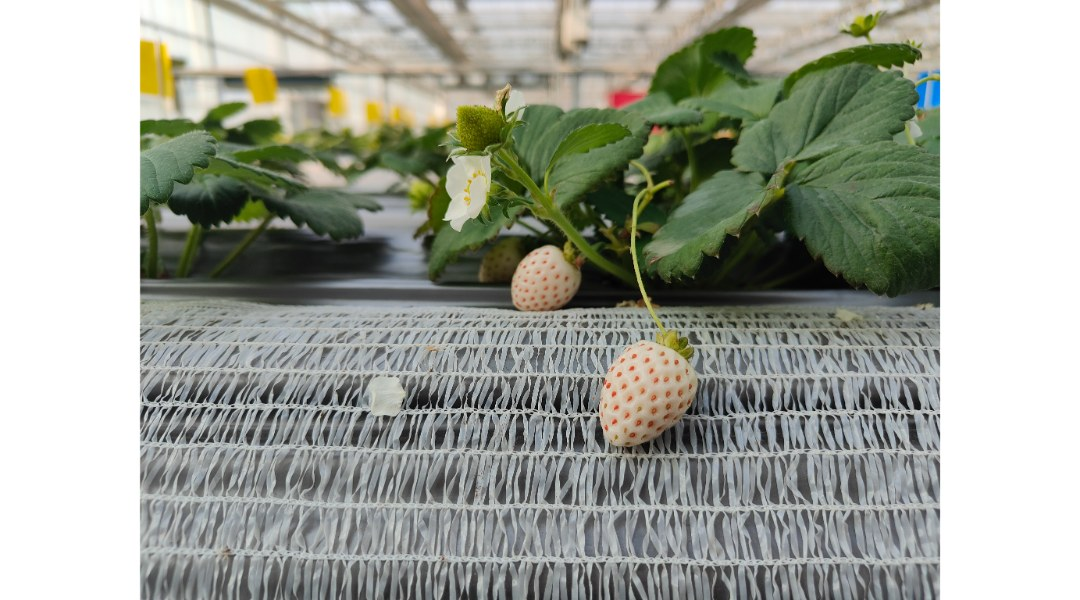berry: (577, 337, 708, 451), (501, 246, 582, 318), (442, 95, 520, 156)
flower: (432, 136, 506, 233)
strain: (512, 155, 605, 275), (619, 177, 675, 328)
